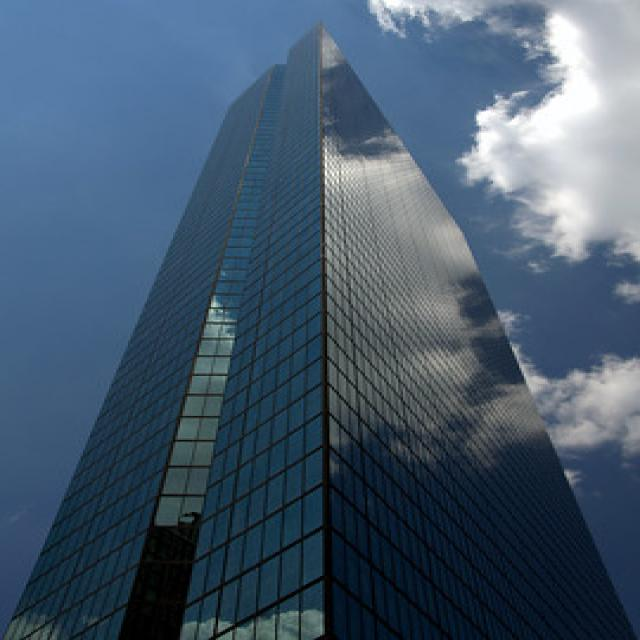Normal_building: (2, 16, 640, 640)
